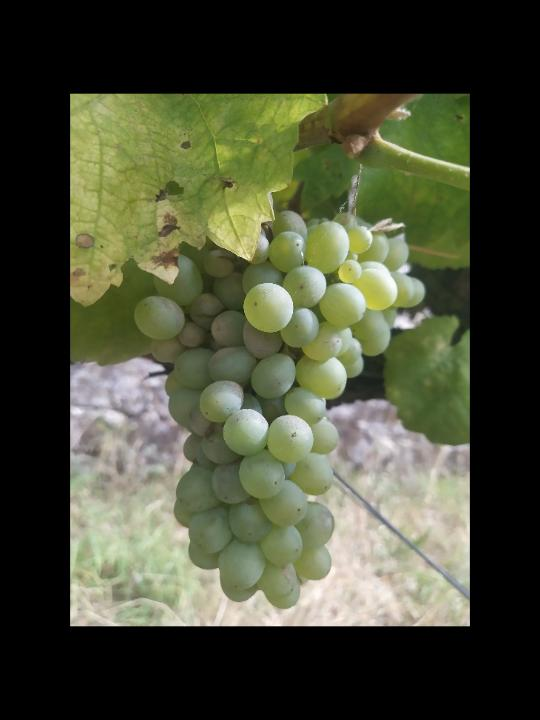grape: (133, 210, 428, 612)
